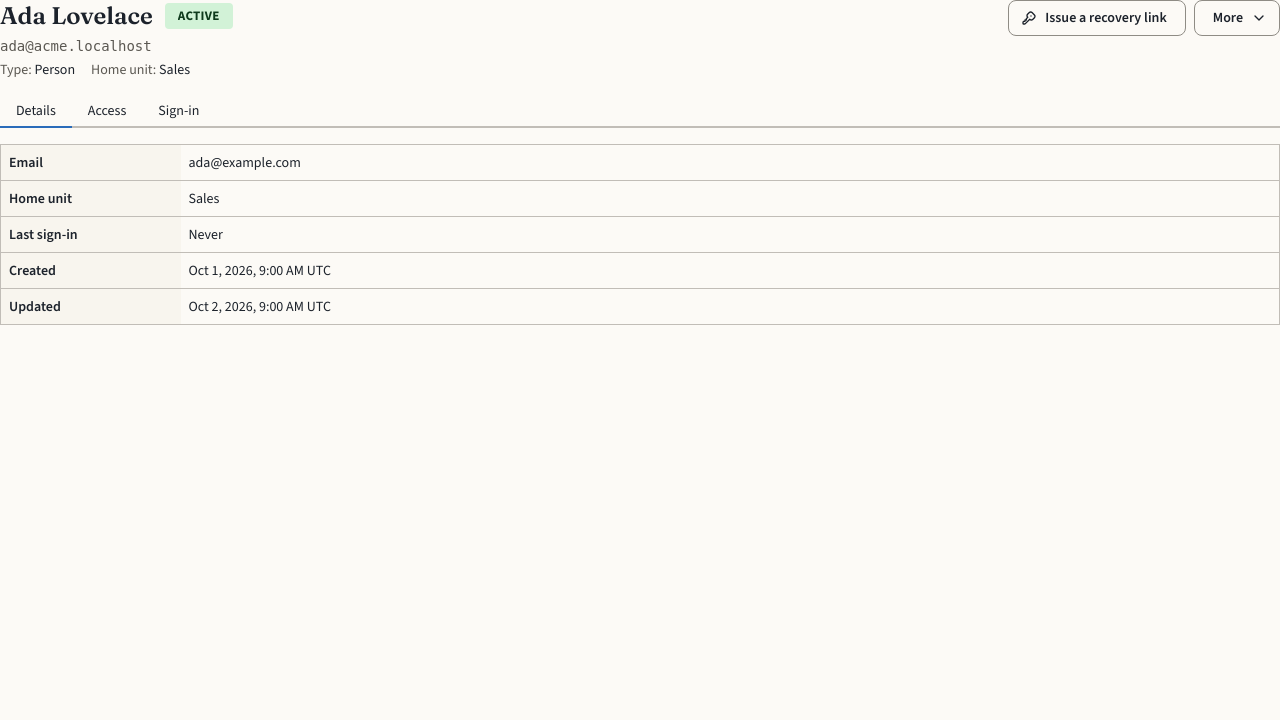
signing in as someone, revoking, and the emergency mark on the user record › marks an emergency account, shows the mark, and says why the API refused a third [ADR-0049]
Click the button with aria-label "More actions for Ada Lovelace" at (1237, 18), box [1194,0,1279,36]
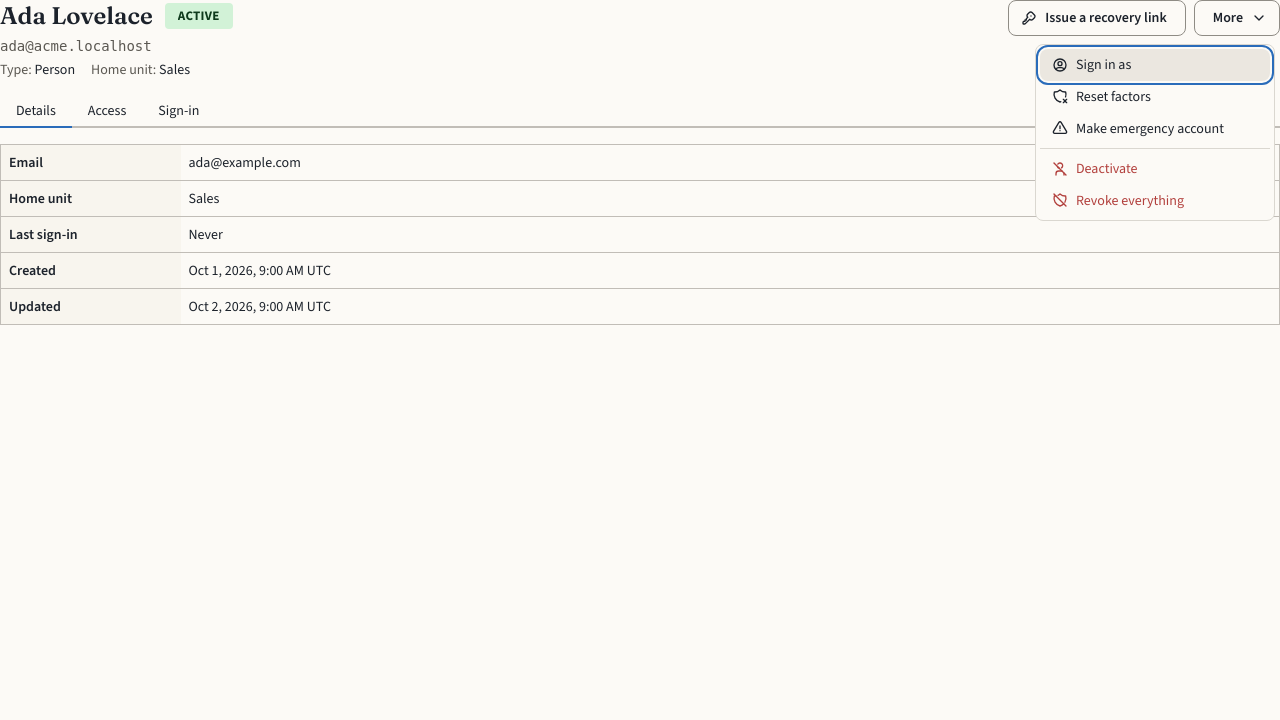
Click the menu item "Make emergency account" at (1155, 128), box [1040,112,1270,144]
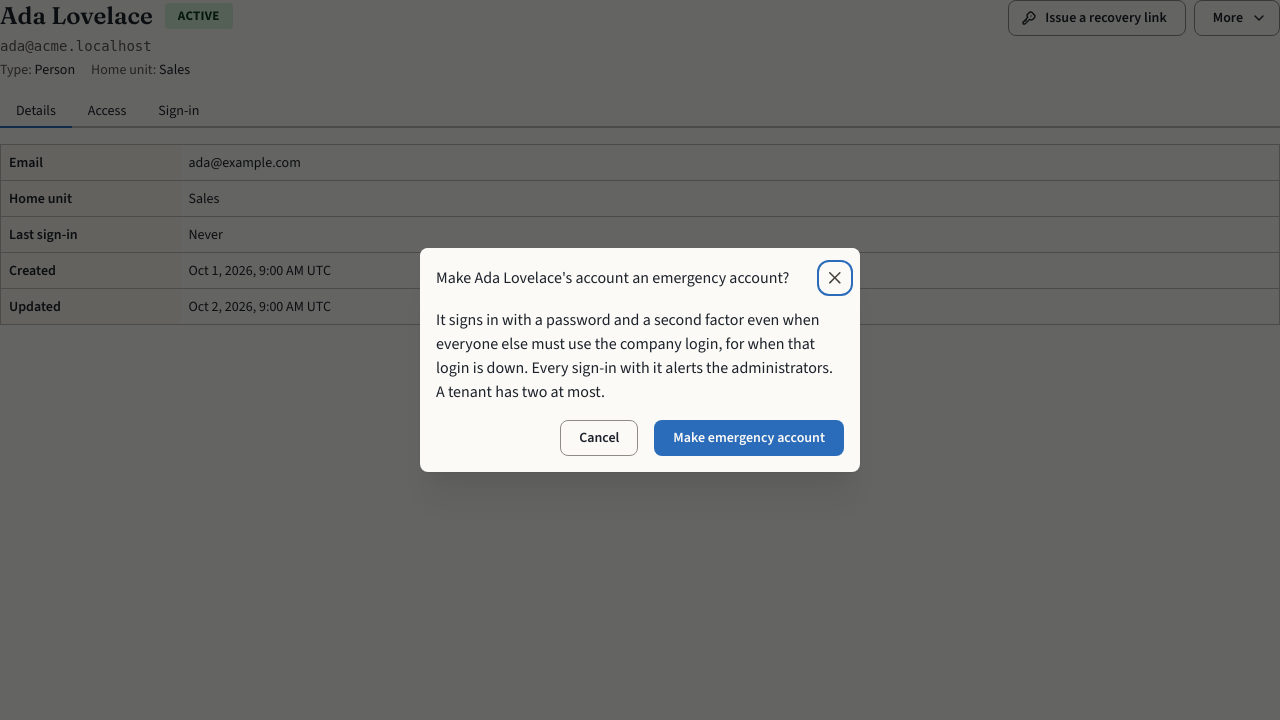
expect the dialog "Make Ada Lovelace's account an emergency account?" shows "A tenant has two at most.": met, box [436,309,833,402]
Click the button "Make emergency account" at (749, 438), box [654,420,844,456]
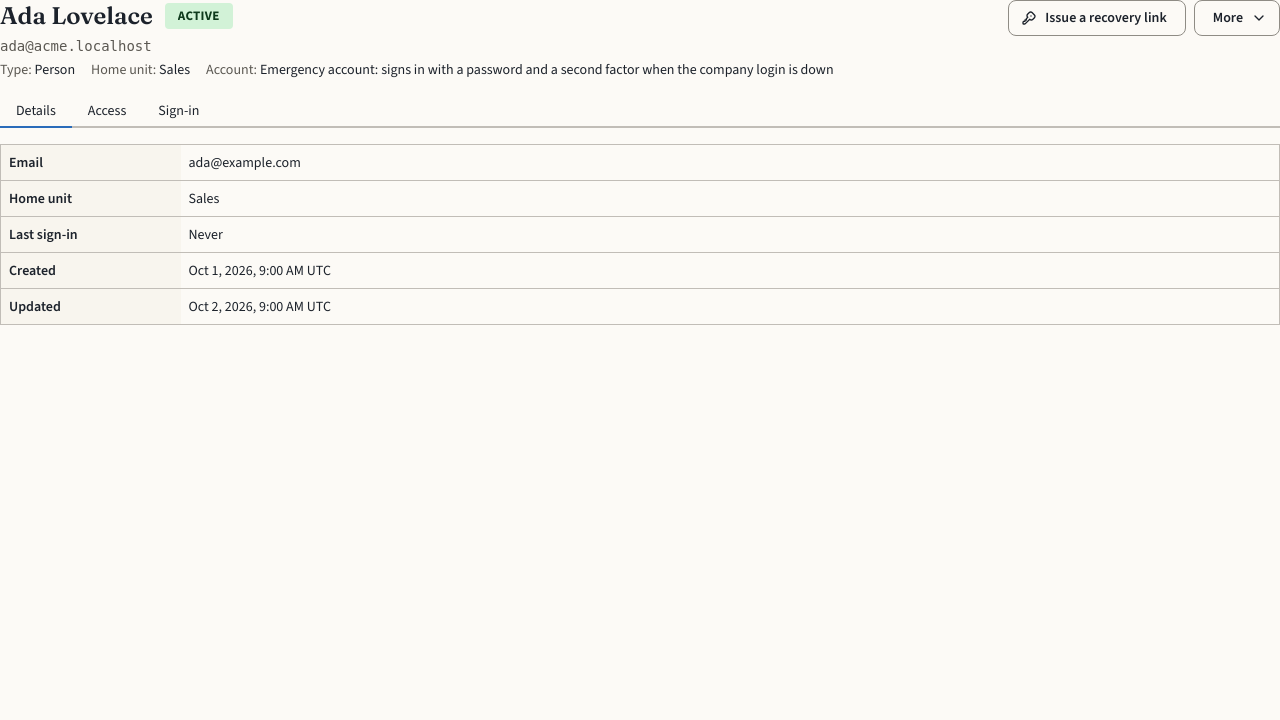
expect the text "Emergency account" is shown: met, box [260,60,834,79]
